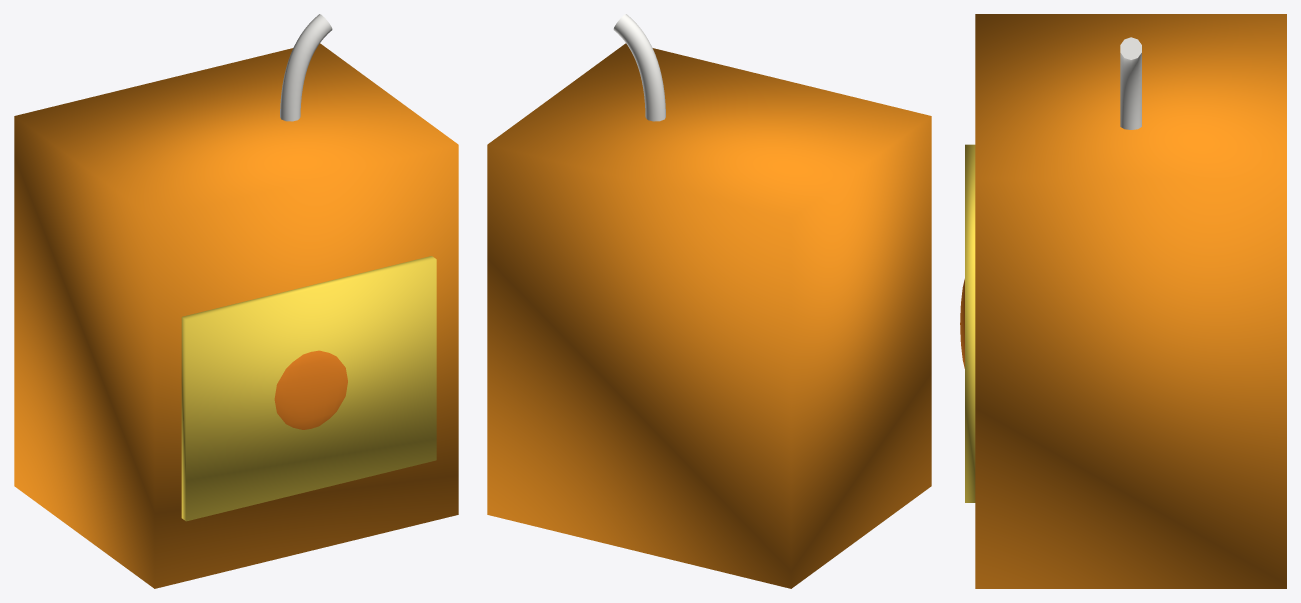
Rendered from tb_mat_juice.glb.
The picture shows the model from 3 angles, left to right: view 1: azimuth 30°, elevation 25°; view 2: azimuth 150°, elevation 25°; view 3: azimuth 270°, elevation 25°; orthographic projection. The views are drawn at different scales.
Parts seen in each view (by area): view 1: matkropp; view 2: matkropp; view 3: matkropp.
Boxes of the visible parts, bbox=[...] form: matkropp: bbox=[14, 14, 458, 588]; matkropp: bbox=[487, 14, 931, 588]; matkropp: bbox=[960, 14, 1286, 588].
Size of the model in its own units: 0.68 by 0.9937 by 0.5708.
